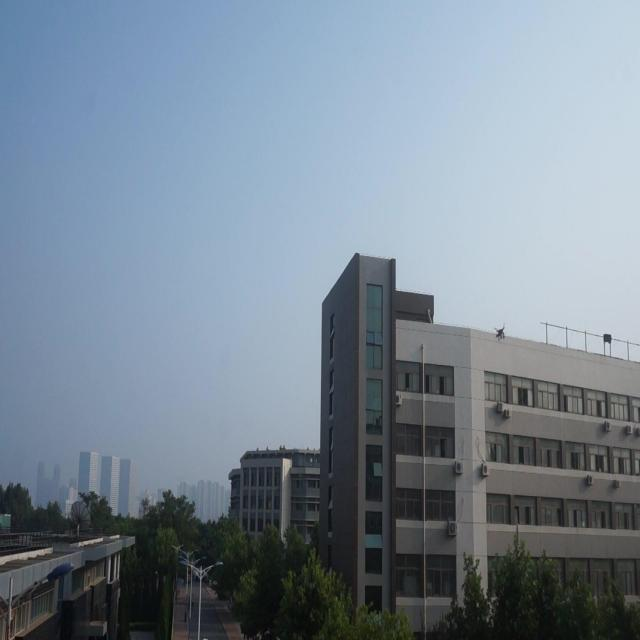UAV: (494, 322, 506, 342)
